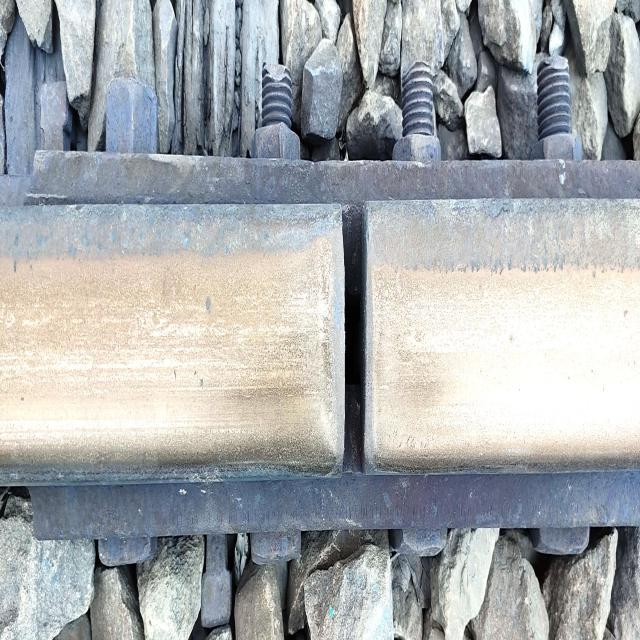Good Joint: (34, 48, 635, 585)
